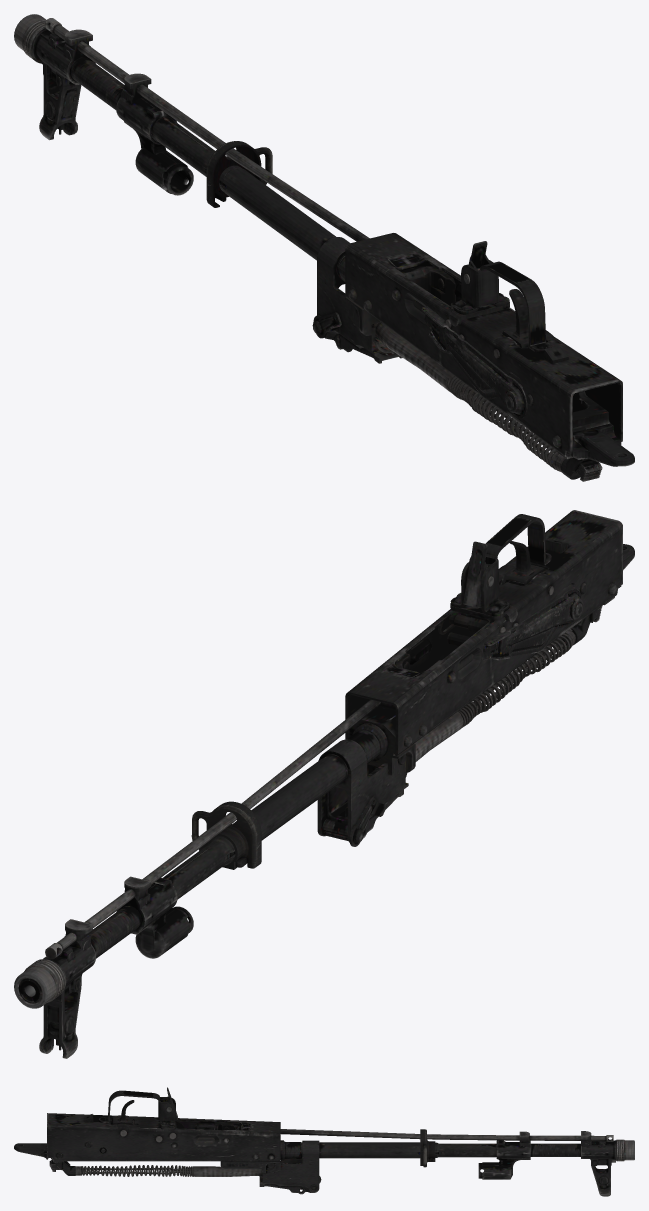
3 views of the same model, one above another, from view 1: azimuth 30°, elevation 25°; view 2: azimuth 150°, elevation 25°; view 3: azimuth 270°, elevation 25° (orthographic). The views are drawn at different scales.
Visible parts, largest first — view 1: TW_5bf3e03b0db834001d2c4a9c_PZ_Import; view 2: TW_5bf3e03b0db834001d2c4a9c_PZ_Import; view 3: TW_5bf3e03b0db834001d2c4a9c_PZ_Import.
Boxes of the visible parts, x1=… form: TW_5bf3e03b0db834001d2c4a9c_PZ_Import: x1=14, y1=14, x2=634, y2=481; TW_5bf3e03b0db834001d2c4a9c_PZ_Import: x1=14, y1=510, x2=634, y2=1058; TW_5bf3e03b0db834001d2c4a9c_PZ_Import: x1=14, y1=1087, x2=634, y2=1196.
Bounding box in the file's own units: 0.0285 × 0.3937 × 0.0735.
1 material, 1 textured.
